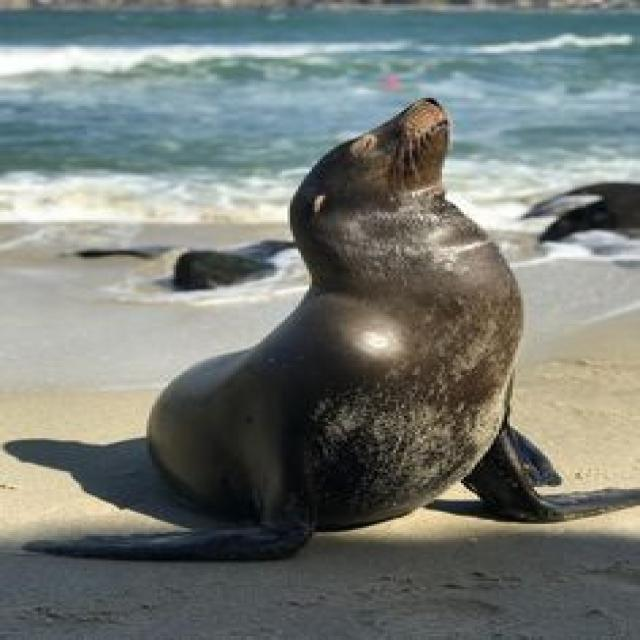Carnivorous: (5, 98, 640, 563)
